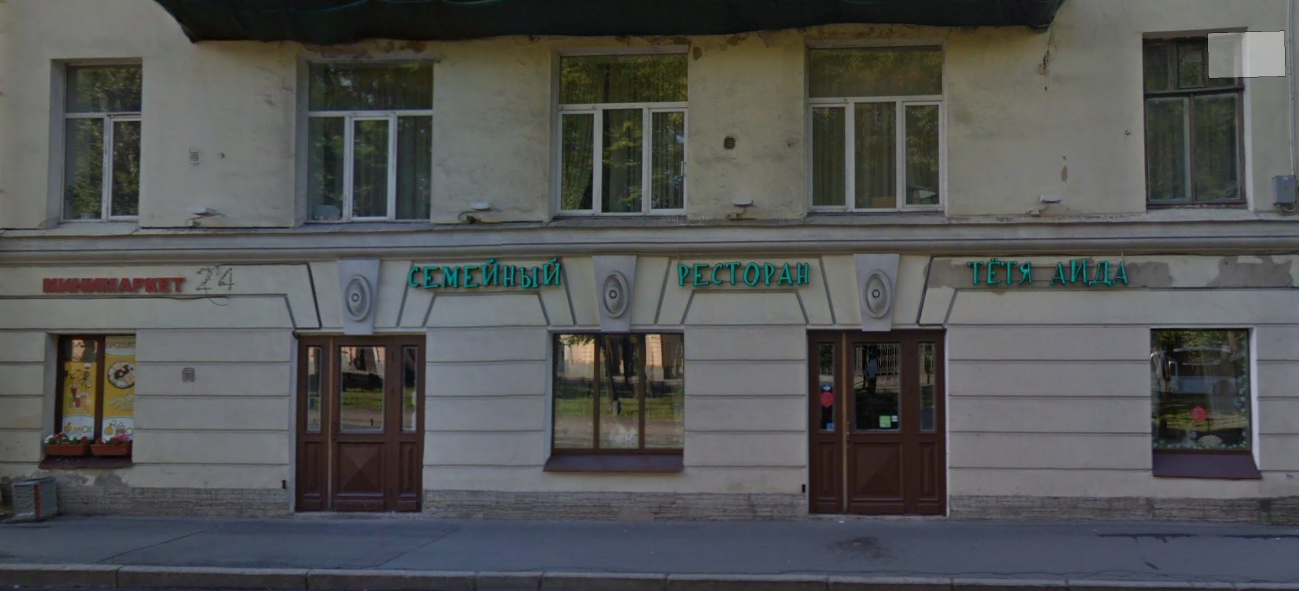door: (803, 327, 943, 516), (291, 325, 416, 510)
signboard: (395, 246, 1144, 299), (40, 262, 185, 294)
window: (806, 45, 944, 217), (554, 56, 689, 218), (1138, 31, 1251, 213), (304, 61, 430, 223), (552, 331, 681, 475), (1151, 328, 1259, 482), (37, 328, 128, 473), (57, 61, 135, 223)
